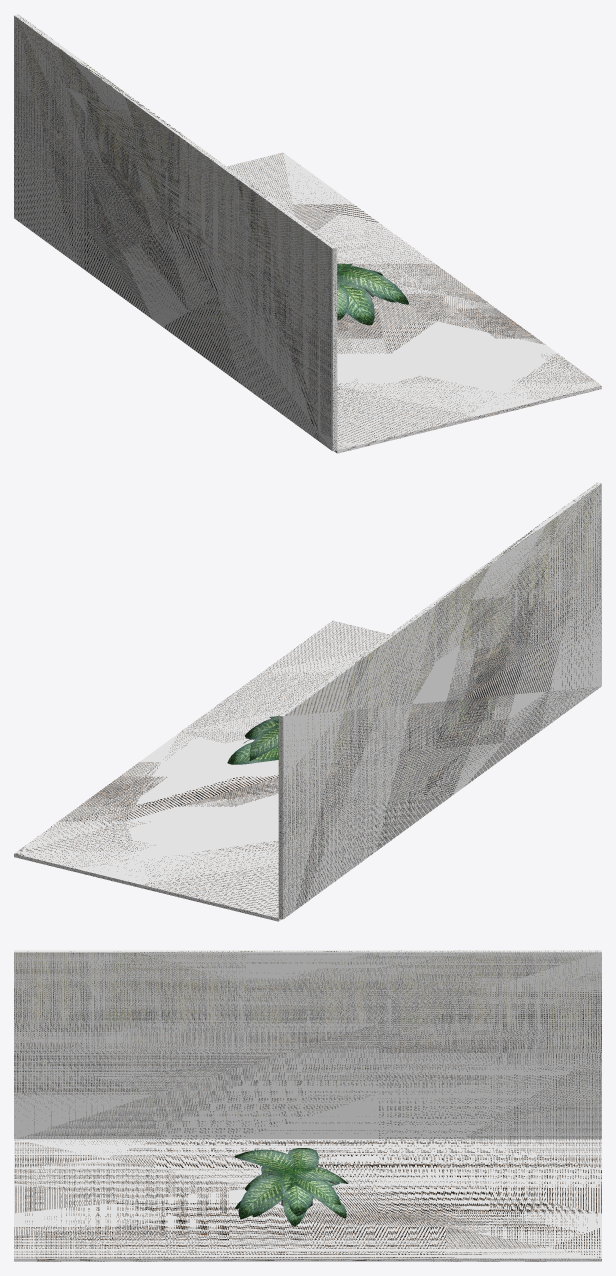
3 renders of one model, top to bottom at view 1: azimuth 30°, elevation 25°; view 2: azimuth 150°, elevation 25°; view 3: azimuth 270°, elevation 25°, orthographic. The views are drawn at different scales.
Parts seen in each view (by area): view 1: SketchUp (×3), Leaf1 (×2); view 2: SketchUp (×3), Leaf1 (×2); view 3: SketchUp (×4), Leaf1 (×6).
Boxes of the visible parts, x1,y1,x2,y2 form: SketchUp (×3): (14,14,601,453); Leaf1 (×2): (340,266,409,325); SketchUp (×3): (14,482,601,921); Leaf1 (×2): (227,725,278,764); SketchUp (×4): (14,950,601,1261); Leaf1 (×6): (234,1148,348,1219).
Bounding box in the file's own units: 386 × 792 × 282.
6 materials, 4 textured.
